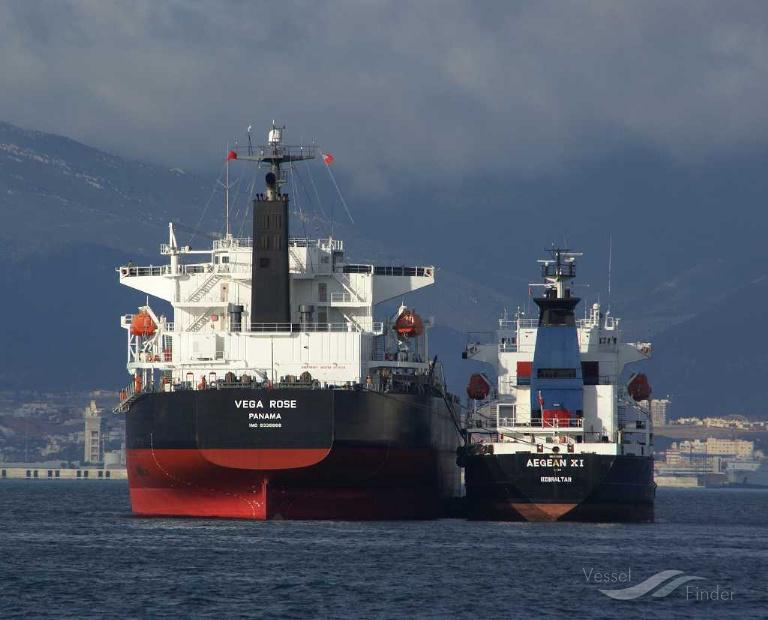OCR: (228, 391, 302, 434), (527, 454, 589, 492)
